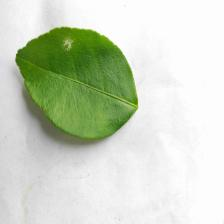greening: (46, 53, 142, 130)
